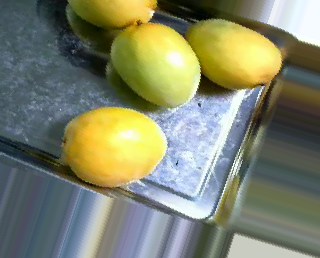Mango: (61, 104, 169, 188), (108, 21, 203, 105), (181, 16, 287, 85), (61, 0, 158, 25)
